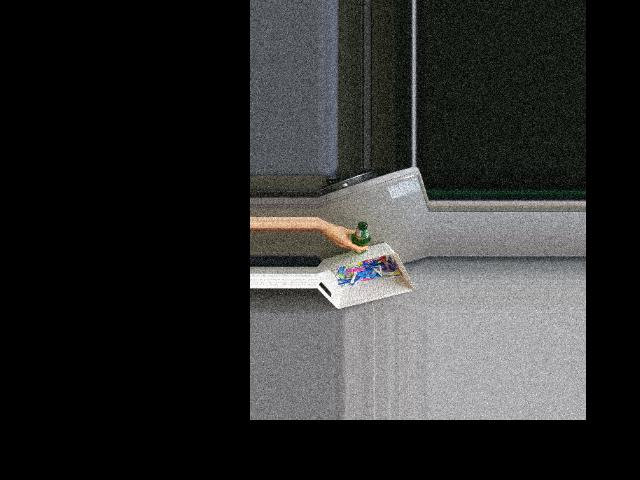beer: (351, 221, 370, 253)
